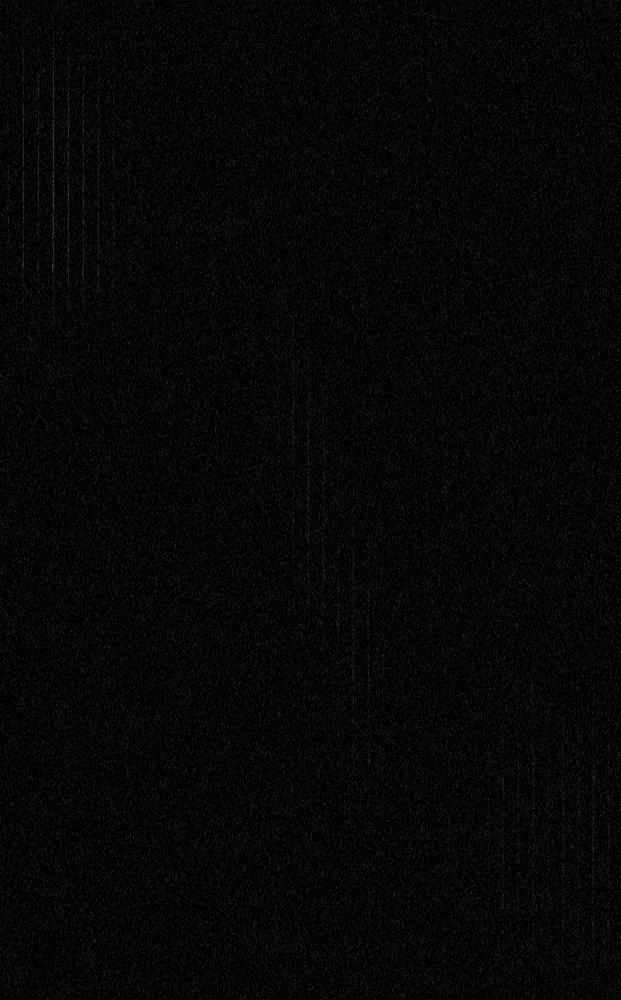signal: (0, 0, 620, 999)
